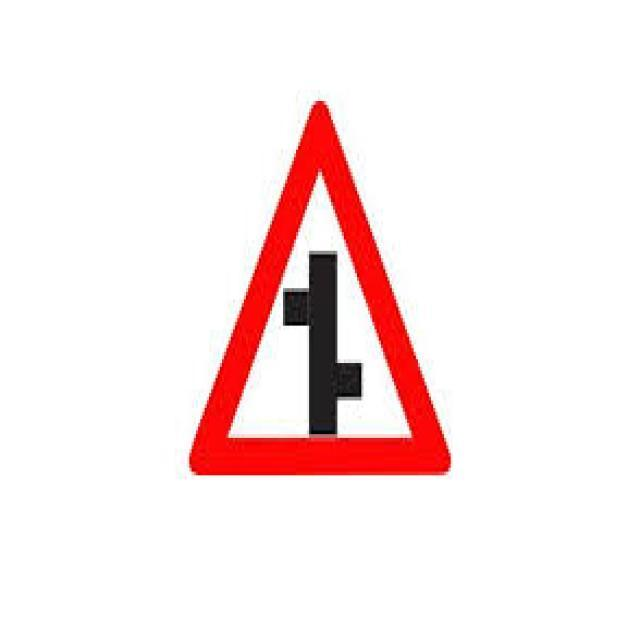staggered intersection: (188, 100, 454, 479)
